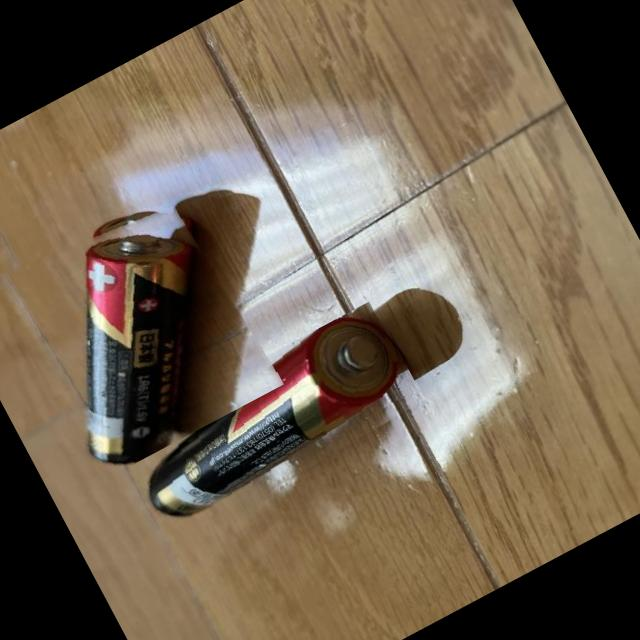Hazard: (0, 176, 285, 481), (112, 298, 431, 548)
